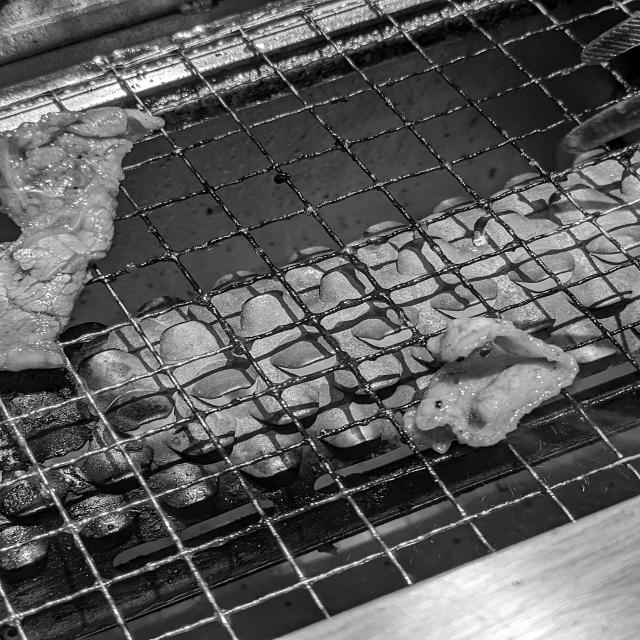OK cooked beef,: (1, 91, 182, 376), (393, 310, 595, 464)
